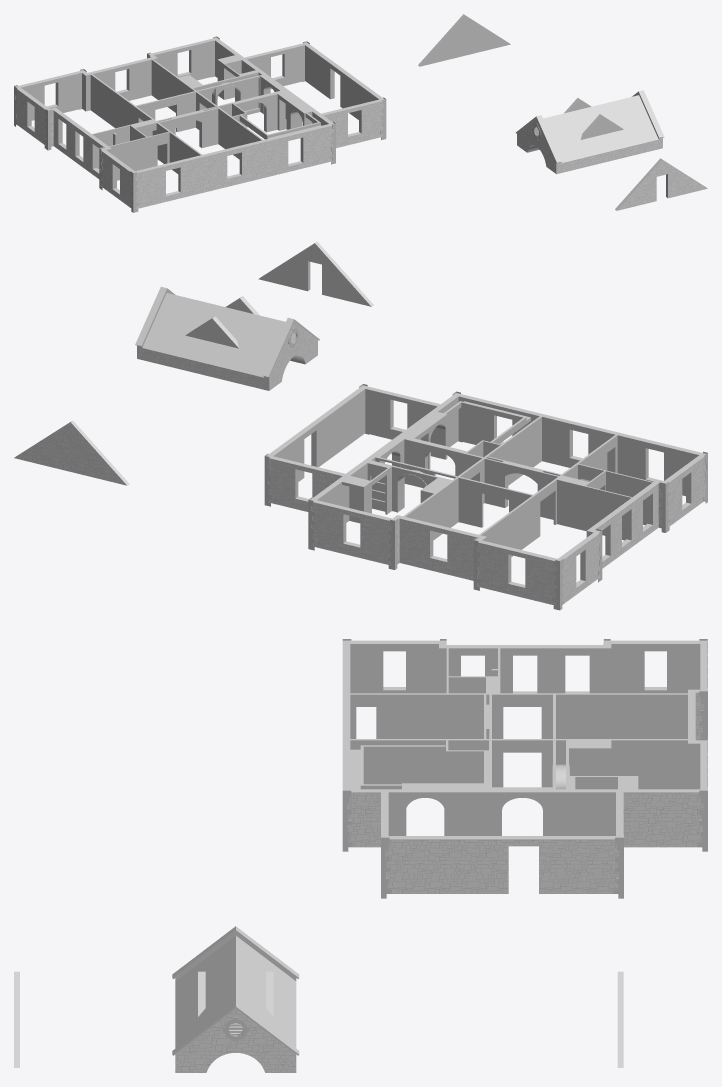
Rendered from RB05__Storey__FirstFloor__ProposedWalls__MeshModel__.glb.
The picture shows the model from 3 angles, top to bottom: view 1: azimuth 30°, elevation 25°; view 2: azimuth 150°, elevation 25°; view 3: azimuth 270°, elevation 25°; orthographic projection. The views are drawn at different scales.
Visible parts, largest first — view 1: 21__ProposedBuilding__Walls::Default, 21__ProposedBuilding__Walls::MAT000E__Masonry__StoneworkPatt; view 2: 21__ProposedBuilding__Walls::Default, 21__ProposedBuilding__Walls::MAT000E__Masonry__StoneworkPatt; view 3: 21__ProposedBuilding__Walls::Default, 21__ProposedBuilding__Walls::MAT000E__Masonry__StoneworkPatt.
Boxes of the visible parts, box(x1,y1,x2,y2) form: 21__ProposedBuilding__Walls::Default: box(14, 14, 704, 212); 21__ProposedBuilding__Walls::MAT000E__Masonry__StoneworkPatt: box(15, 57, 707, 210); 21__ProposedBuilding__Walls::Default: box(16, 241, 707, 610); 21__ProposedBuilding__Walls::MAT000E__Masonry__StoneworkPatt: box(14, 321, 705, 605); 21__ProposedBuilding__Walls::Default: box(14, 639, 707, 1067); 21__ProposedBuilding__Walls::MAT000E__Masonry__StoneworkPatt: box(175, 692, 703, 1072).
Bounding box in the file's own units: 41.75 × 4.29 × 34.41.
3 materials, 1 textured.
